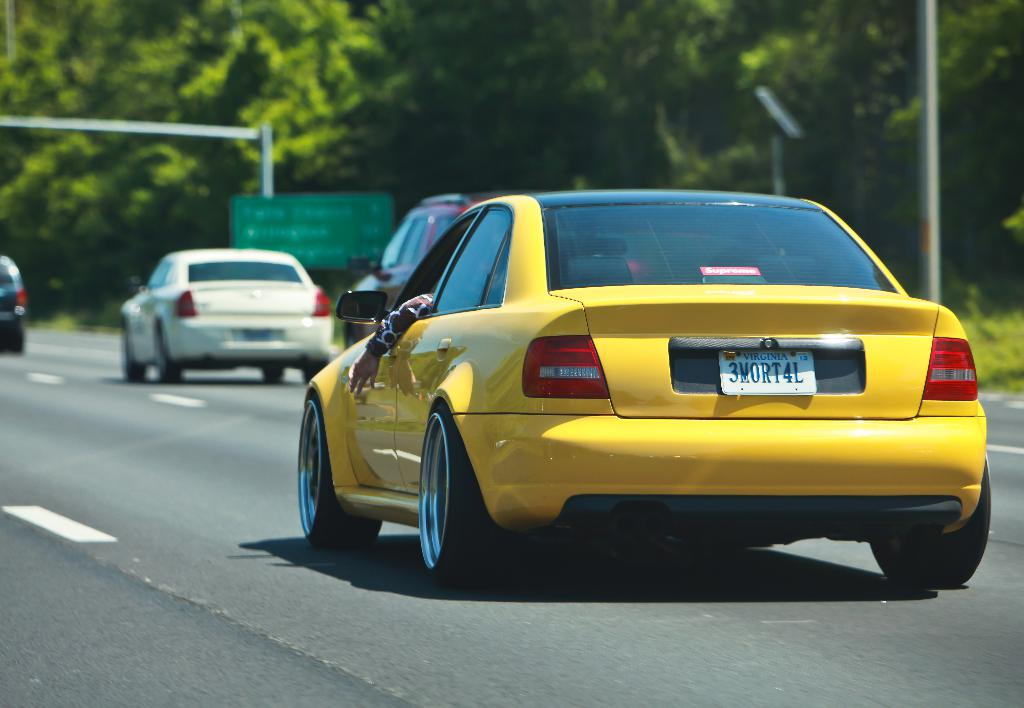Car: (298, 190, 991, 576), (121, 245, 331, 384), (345, 195, 500, 347), (0, 254, 24, 355)
